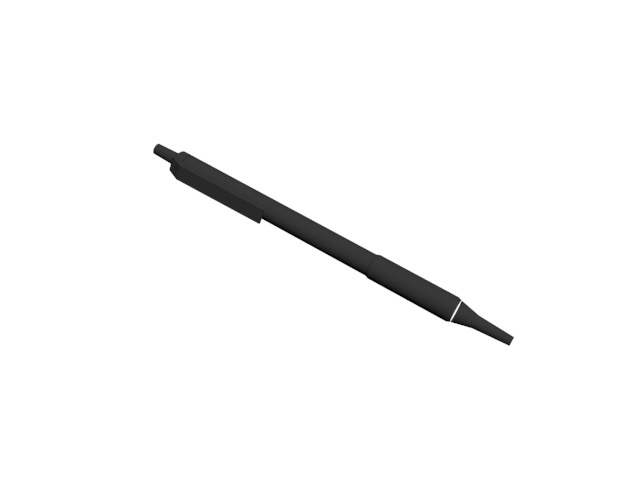pen: (153, 137, 520, 352)
